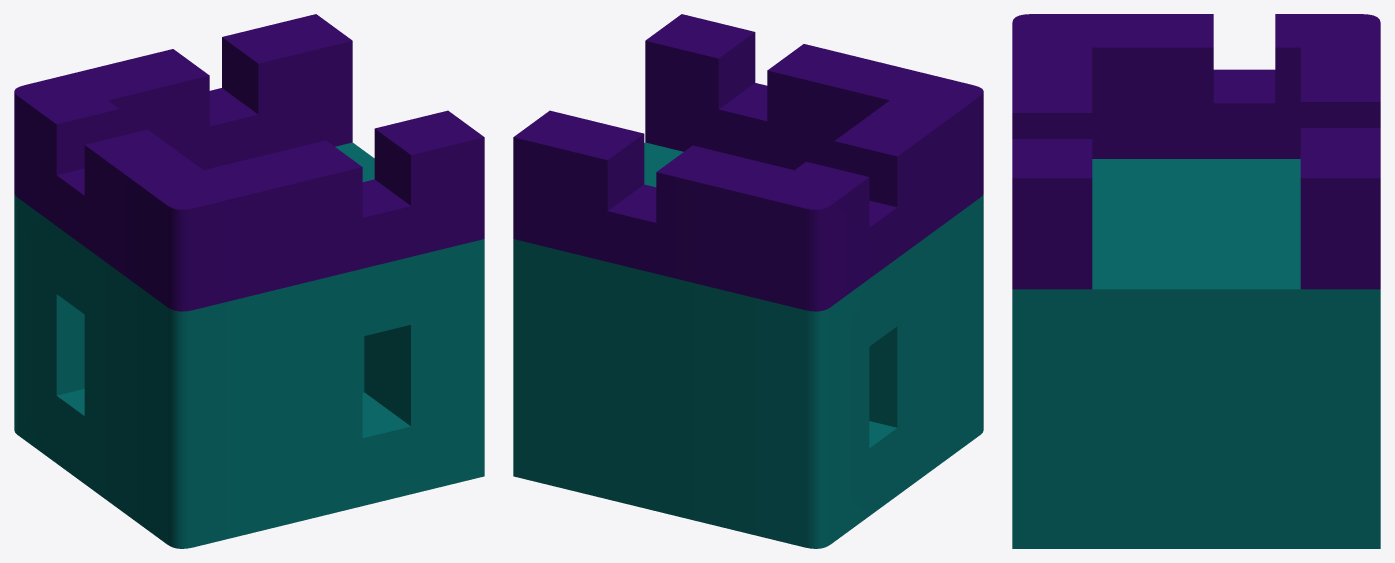
The model's file is Roof_01_I_F.fbx.
The picture shows the model from 3 angles, left to right: view 1: azimuth 30°, elevation 25°; view 2: azimuth 150°, elevation 25°; view 3: azimuth 270°, elevation 25°; orthographic projection. The views are drawn at different scales.
Parts seen in each view (by area): view 1: 3, 1, 4, 2; view 2: 4, 2, 3, 1; view 3: 1, 2, 3, 4.
Part boxes in pixels (x1,y1,x2,y2): 3: (92, 135, 330, 548); 1: (294, 110, 484, 513); 4: (14, 51, 198, 489); 2: (162, 14, 374, 181); 4: (667, 135, 905, 548); 2: (513, 110, 703, 513); 3: (799, 51, 983, 489); 1: (644, 14, 835, 187); 1: (1012, 96, 1196, 548); 2: (1196, 96, 1380, 548); 3: (1012, 14, 1196, 207); 4: (1196, 14, 1380, 207).
Size of the model in its own units: 190 by 200 by 180.
